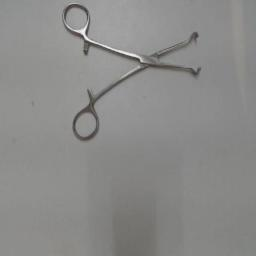Babcock Tissue Forceps: (59, 2, 205, 144)
